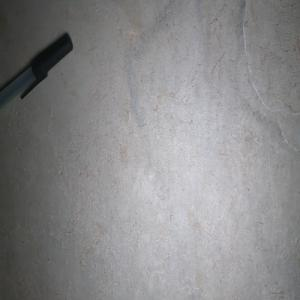Pen: (0, 33, 72, 110)
